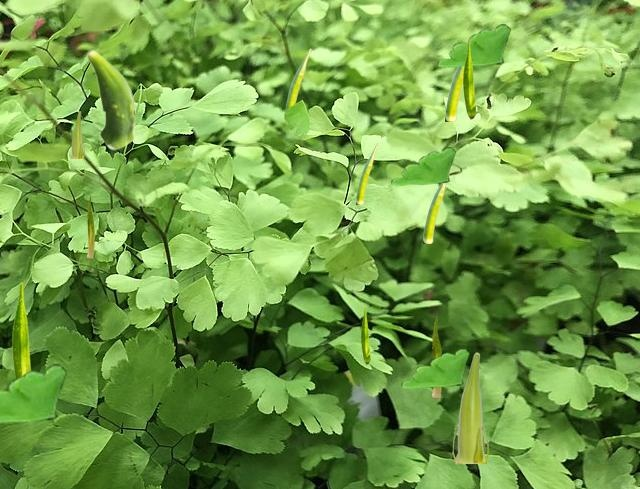okra: (86, 49, 135, 149), (451, 352, 487, 462), (12, 282, 31, 376), (285, 48, 310, 109), (423, 184, 446, 242), (356, 142, 377, 203), (463, 42, 475, 118), (445, 67, 462, 120), (432, 316, 441, 397), (69, 111, 83, 157), (361, 307, 369, 363), (87, 196, 93, 257)
